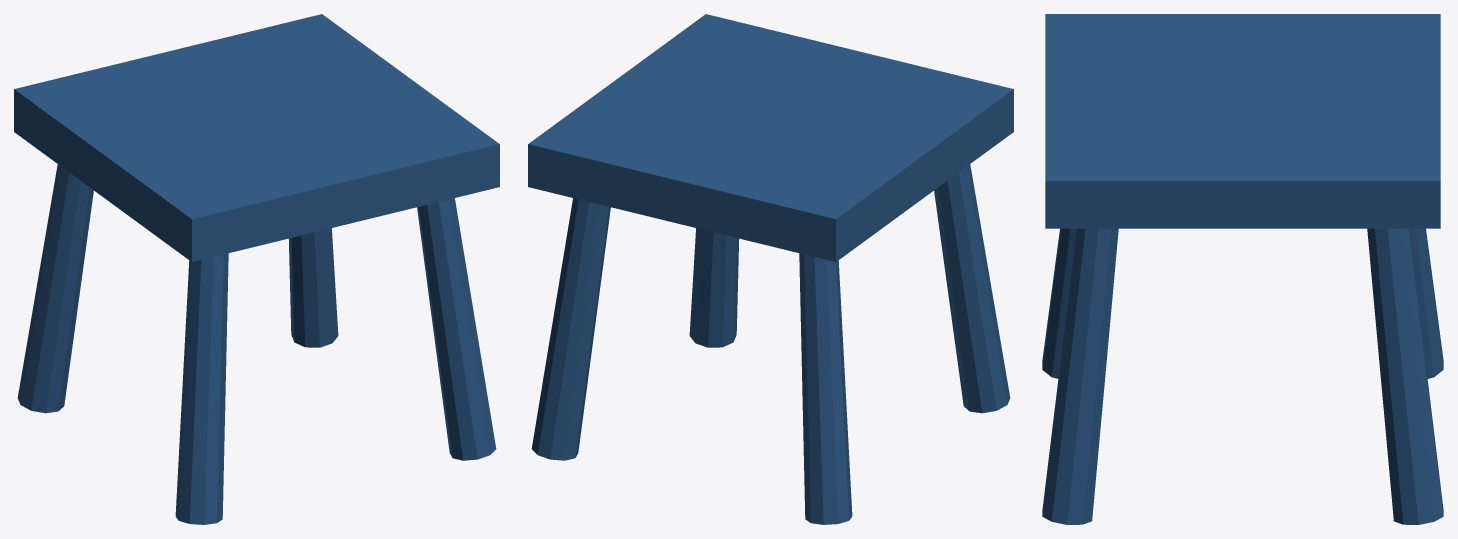
The model's file is ghe_xanh.glb.
3 views of the same model, side by side, from view 1: azimuth 30°, elevation 25°; view 2: azimuth 150°, elevation 25°; view 3: azimuth 270°, elevation 25° (orthographic). The views are drawn at different scales.
Visible parts, largest first — view 1: ghe_xanh; view 2: ghe_xanh; view 3: ghe_xanh.
Part boxes in pixels (box(x1,y1,x2,y2)): ghe_xanh: box(14, 14, 499, 524); ghe_xanh: box(528, 14, 1013, 524); ghe_xanh: box(1042, 14, 1443, 524).
Bounding box in the file's own units: 0.3066 × 0.2914 × 0.3048.
